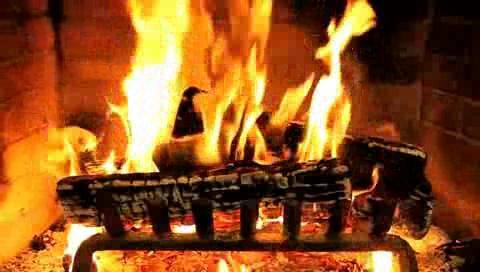fire: (2, 0, 480, 164)
